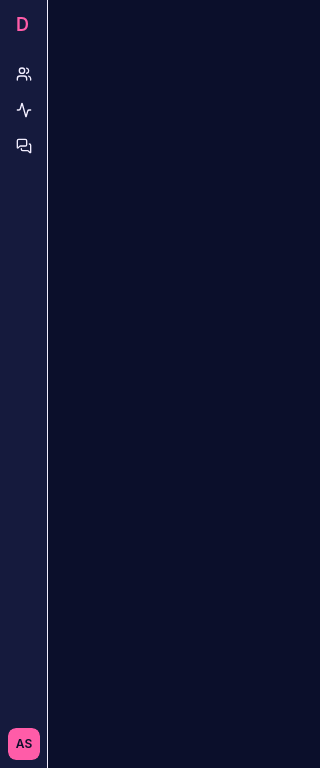
Test case: AppSidebar (menu lateral das telas internas, UX only) › o grupo Operação de IA abre e fecha, e recolhido expande o menu
Click the button "Operação de IA".
click(24, 110)  # box [8, 94, 40, 126]
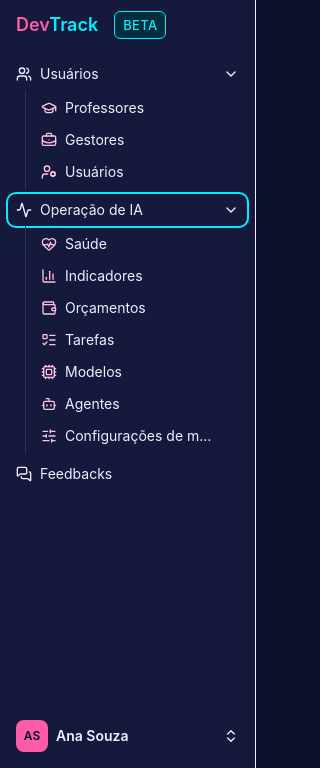
expect the button "Operação de IA" is expanded: met
Click the button "Operação de IA".
click(128, 210)  # box [8, 194, 247, 226]
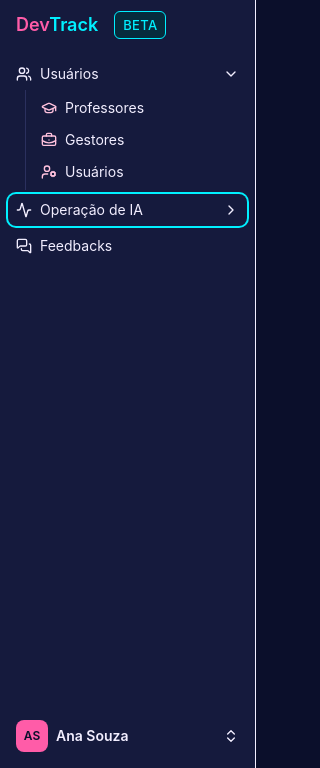
expect the button "Operação de IA" is collapsed: met, box [8, 194, 247, 226]
expect the link "Saúde" is gone: met
